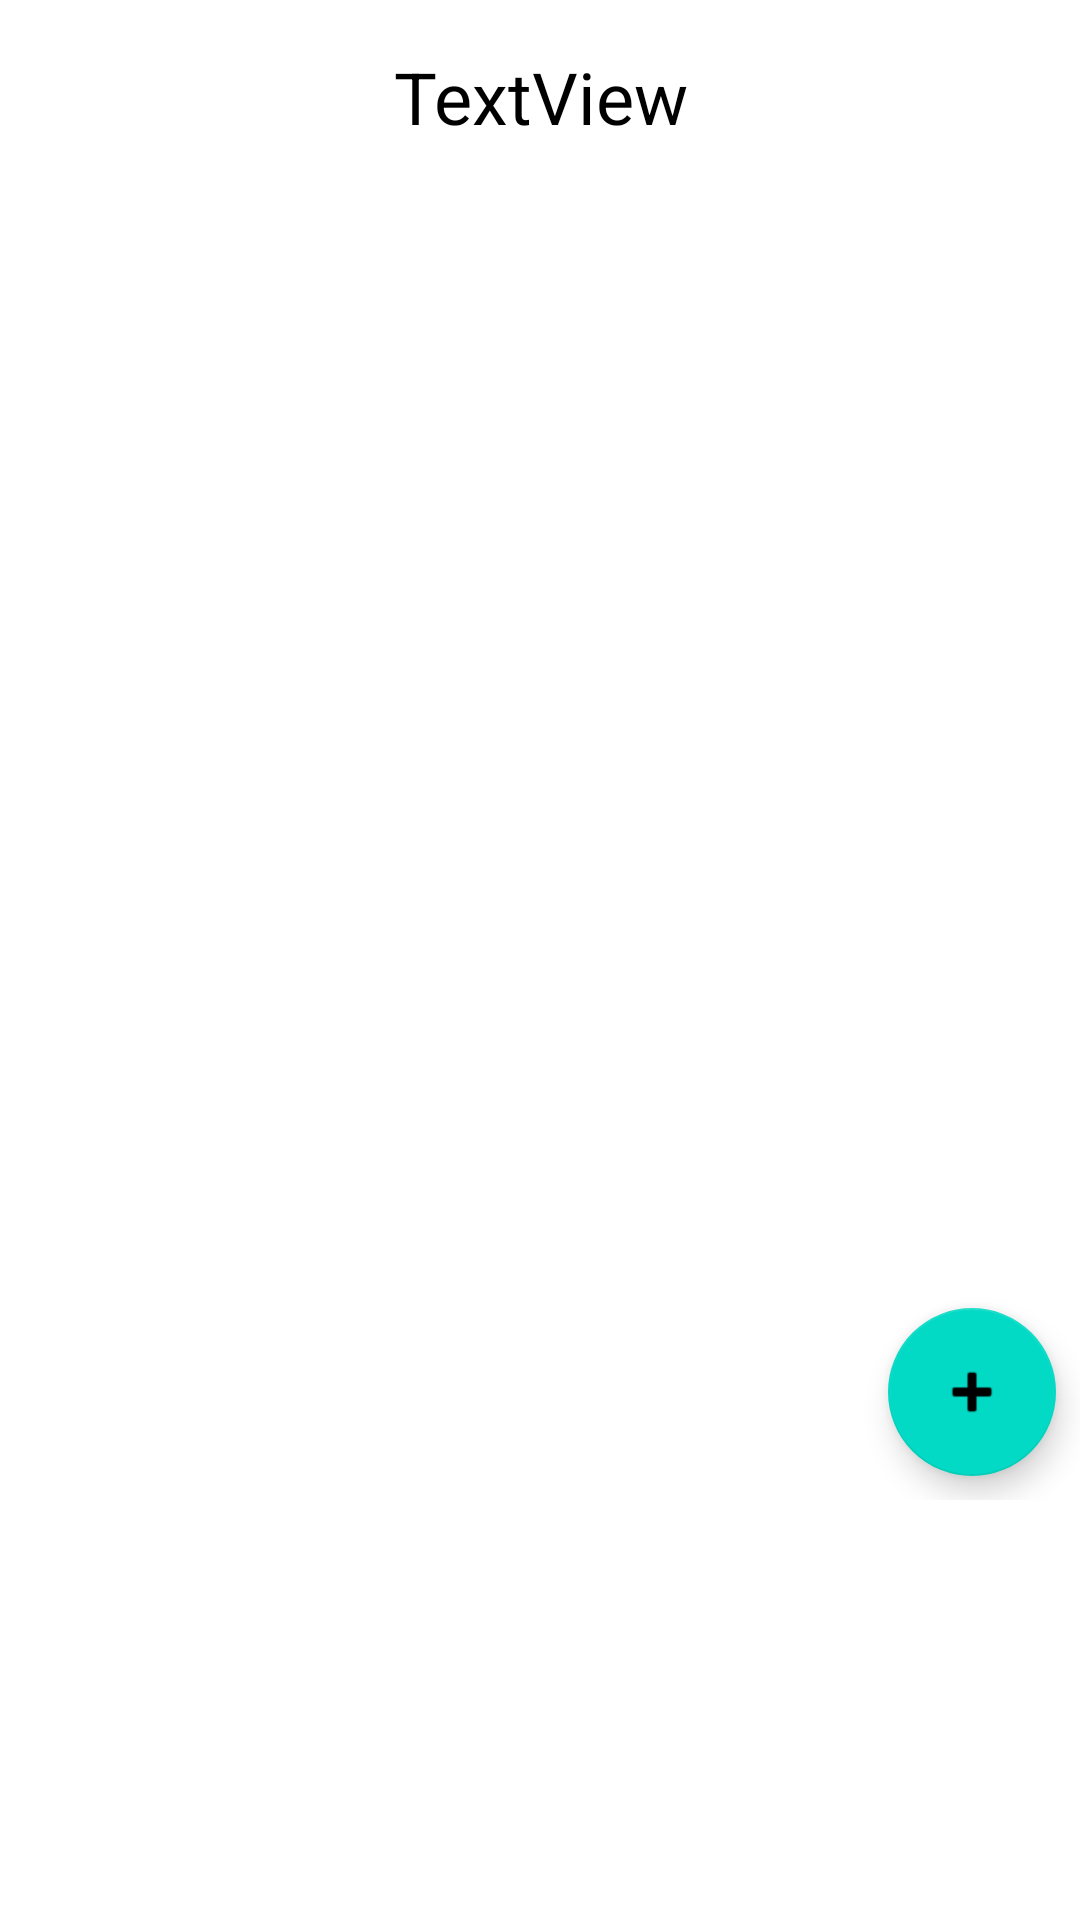

Where to tap for icons on this 1080 x 1920 app screen, as (x,y):
add: (972,1392)
